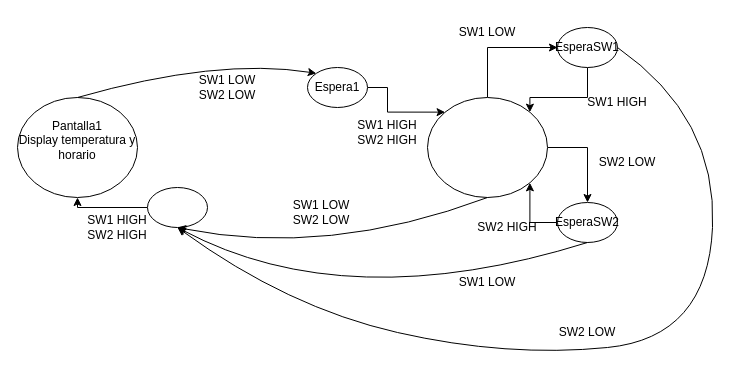
The diagram is 731 pixels wide and 368 high, and some of its shapes have lost their labels. The box of each missing label's shape, as (x1, y1, x2, y2) in pixels:
Espera2: (146, 186, 208, 228)
Pantalla2 configuración hora/zona horaria (GMT): (426, 96, 548, 198)
